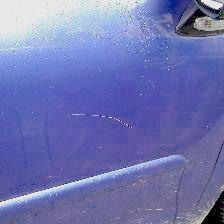door_scratch: (61, 101, 139, 141)
